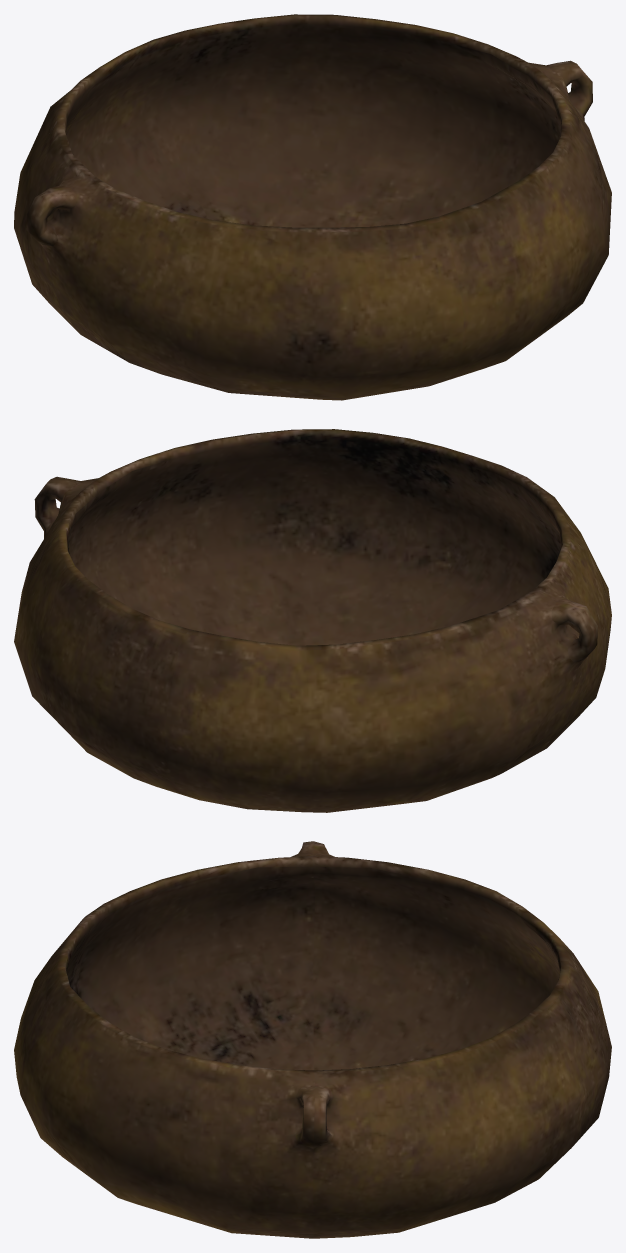
The model's file is SM_Ceramica03.glb.
The picture shows the model from 3 angles, top to bottom: view 1: azimuth 30°, elevation 25°; view 2: azimuth 150°, elevation 25°; view 3: azimuth 270°, elevation 25°; orthographic projection.
Parts seen in each view (by area): view 1: SM_Ceramica03; view 2: SM_Ceramica03; view 3: SM_Ceramica03.
Boxes of the visible parts, box(x1,y1,x2,y2) form: SM_Ceramica03: box(14, 14, 611, 400); SM_Ceramica03: box(14, 429, 611, 812); SM_Ceramica03: box(14, 841, 611, 1238).
Bounding box in the file's own units: 0.5273 × 0.1976 × 0.4929.
Materials: 1 (1 with a texture image).
